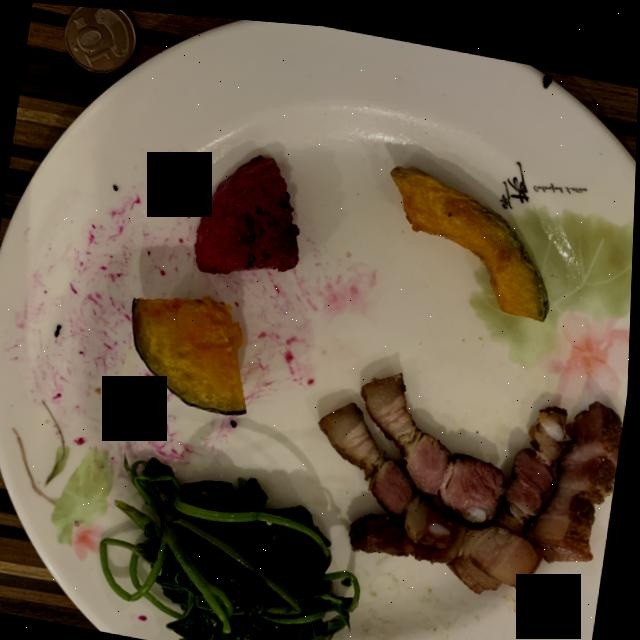coin: (65, 5, 137, 70)
grilled pork: (321, 365, 625, 583)
pumpkin: (391, 158, 550, 310), (134, 291, 248, 410)
sweet potato leaves: (103, 454, 364, 640)
